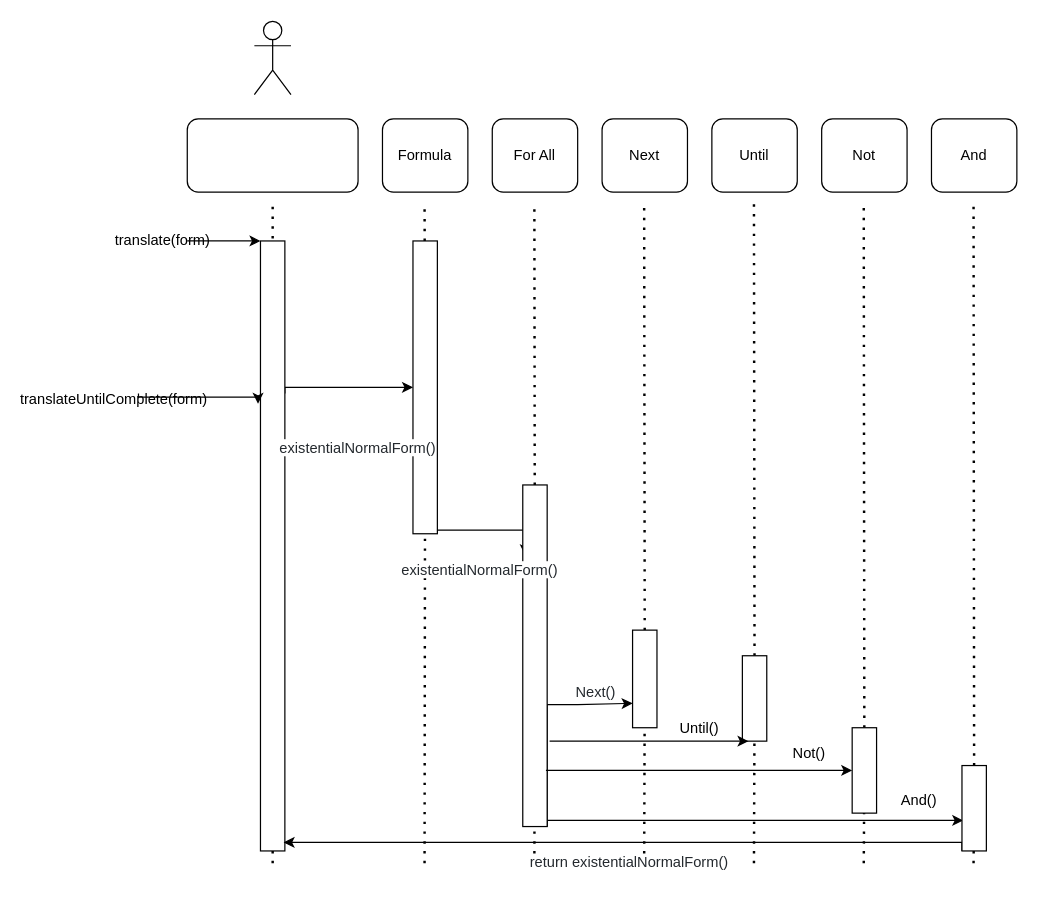
The diagram is 1038 pixels wide and 897 high, and some of its shapes have lost their labels. The centre of each missing label's shape, as x and y in pixels:
ExistentialNormalForm: the point at 272,155
User: the point at 272,57
